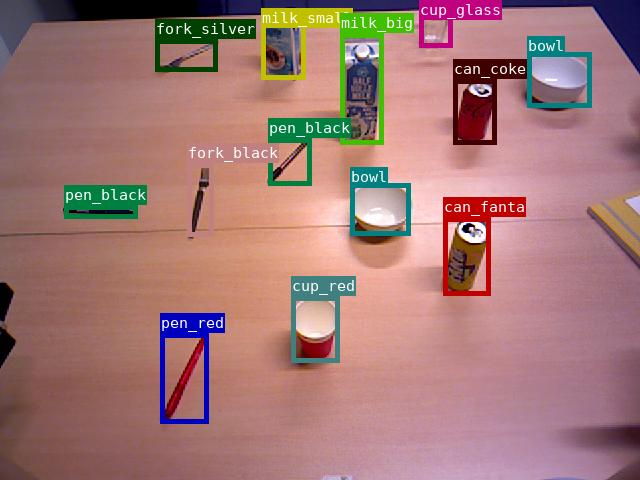bowl: (527, 52, 591, 107), (350, 183, 410, 235)
can_coke: (453, 79, 496, 144)
can_fanta: (443, 217, 490, 295)
cup_glass: (419, 0, 452, 47)
cup_red: (291, 296, 339, 362)
fork_black: (187, 163, 213, 236)
fork_silver: (155, 39, 217, 71)
milk_big: (340, 33, 383, 144)
milk_small: (261, 8, 305, 79)
pen_black: (268, 138, 311, 185), (64, 205, 137, 218)
pen_red: (160, 333, 208, 423)
